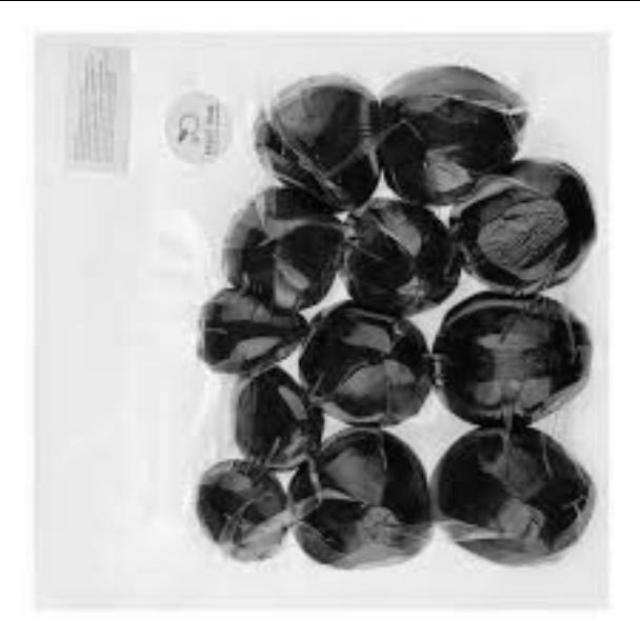sugar beet: (182, 42, 595, 569)
